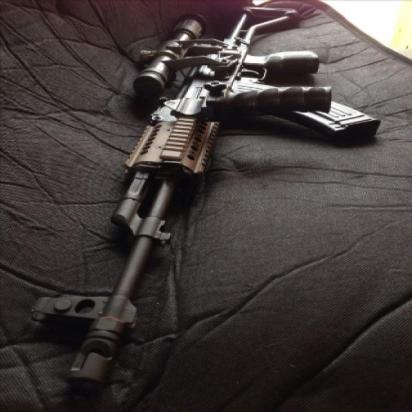Gun: (21, 3, 380, 394)
